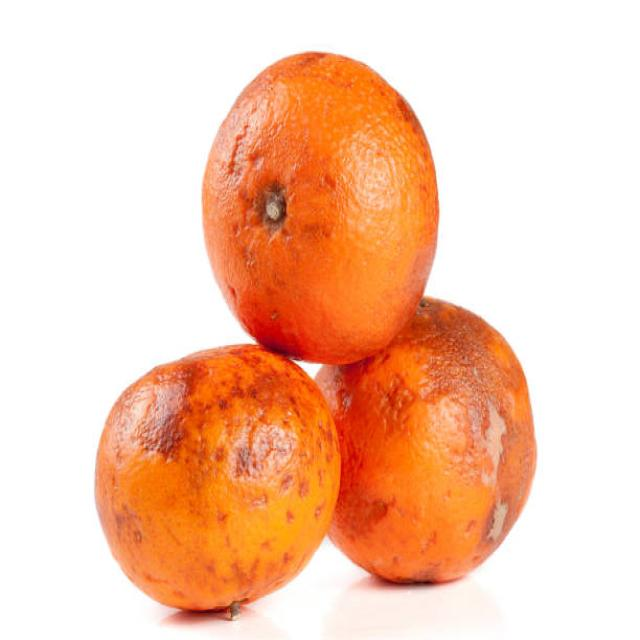overripe: (195, 43, 444, 367), (88, 338, 347, 617), (341, 290, 536, 591)
